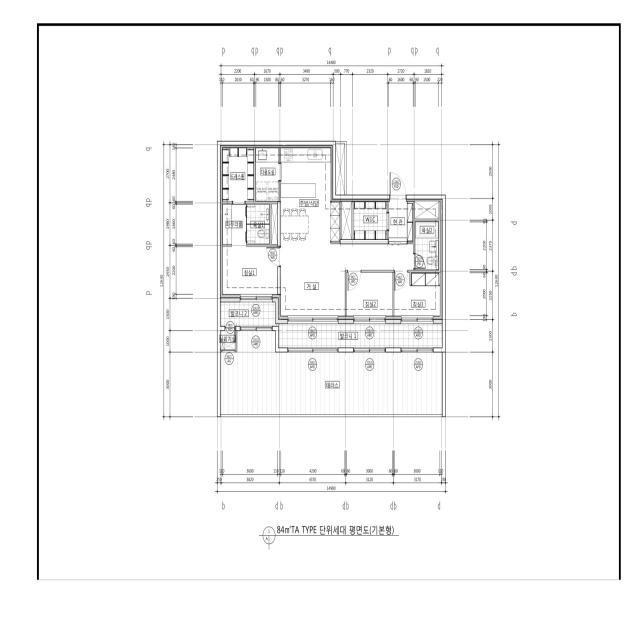space_balconi: (220, 302, 442, 348)
space_bedroom: (220, 247, 279, 298), (394, 272, 442, 319), (347, 272, 393, 319)
space_dressroom: (220, 146, 254, 202), (220, 202, 246, 245)
space_front: (388, 200, 413, 244)
space_kitchen: (281, 146, 340, 245)
space_living_room: (278, 244, 413, 319)
space_multipurpose_space: (256, 146, 279, 201)
space_other: (353, 199, 387, 239), (336, 143, 345, 195), (415, 200, 439, 219), (341, 200, 352, 239), (271, 204, 278, 244)
space_outdoor_room: (220, 331, 235, 350)
space_toilet: (415, 222, 438, 270), (247, 205, 269, 244)
